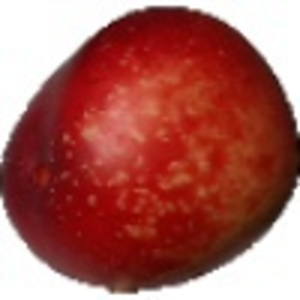nectarina: (1, 5, 300, 297)
